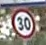limite 30: (10, 6, 35, 40)
